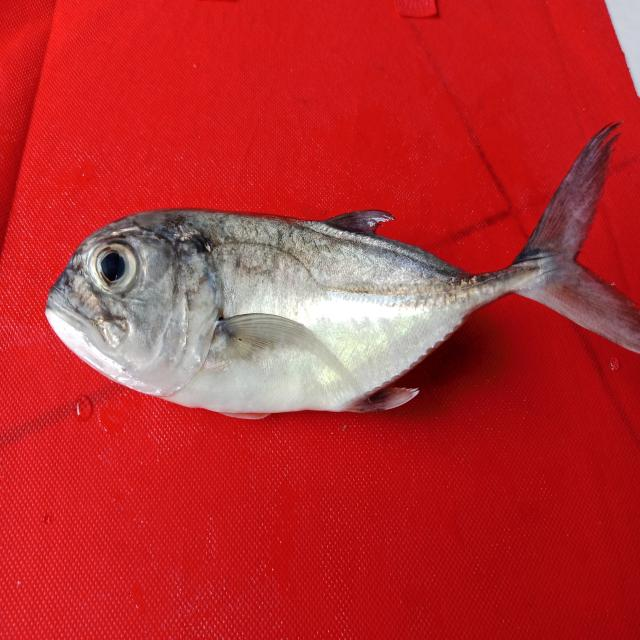ikan: (32, 108, 636, 436)
